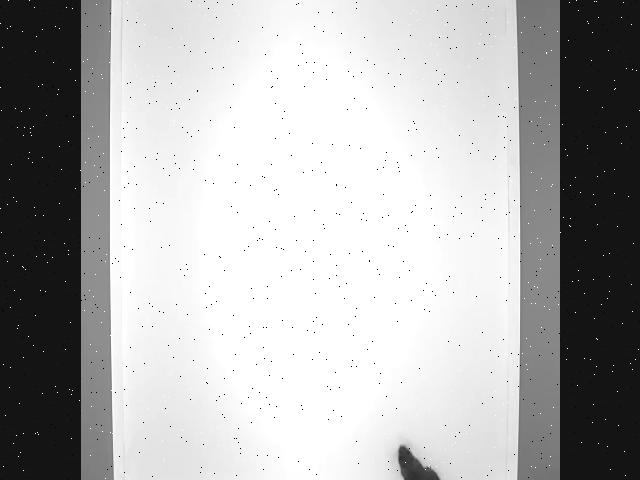Tikus: (397, 446, 493, 480)
